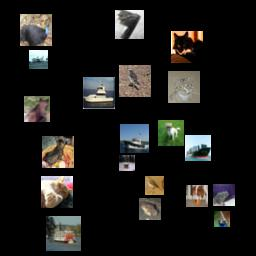airplane: (115, 10, 144, 39), (29, 50, 48, 69)
bird: (119, 65, 151, 97), (20, 14, 52, 46), (145, 176, 164, 195), (214, 211, 230, 227)
cat: (42, 136, 74, 168), (171, 31, 203, 63), (168, 71, 200, 103), (41, 176, 73, 208)
deer: (119, 155, 135, 171)
dog: (158, 120, 184, 146), (186, 185, 208, 207)
frog: (139, 198, 161, 220), (213, 184, 235, 206)
ship: (46, 216, 81, 251), (83, 77, 115, 109), (120, 124, 149, 153), (185, 135, 211, 161)
